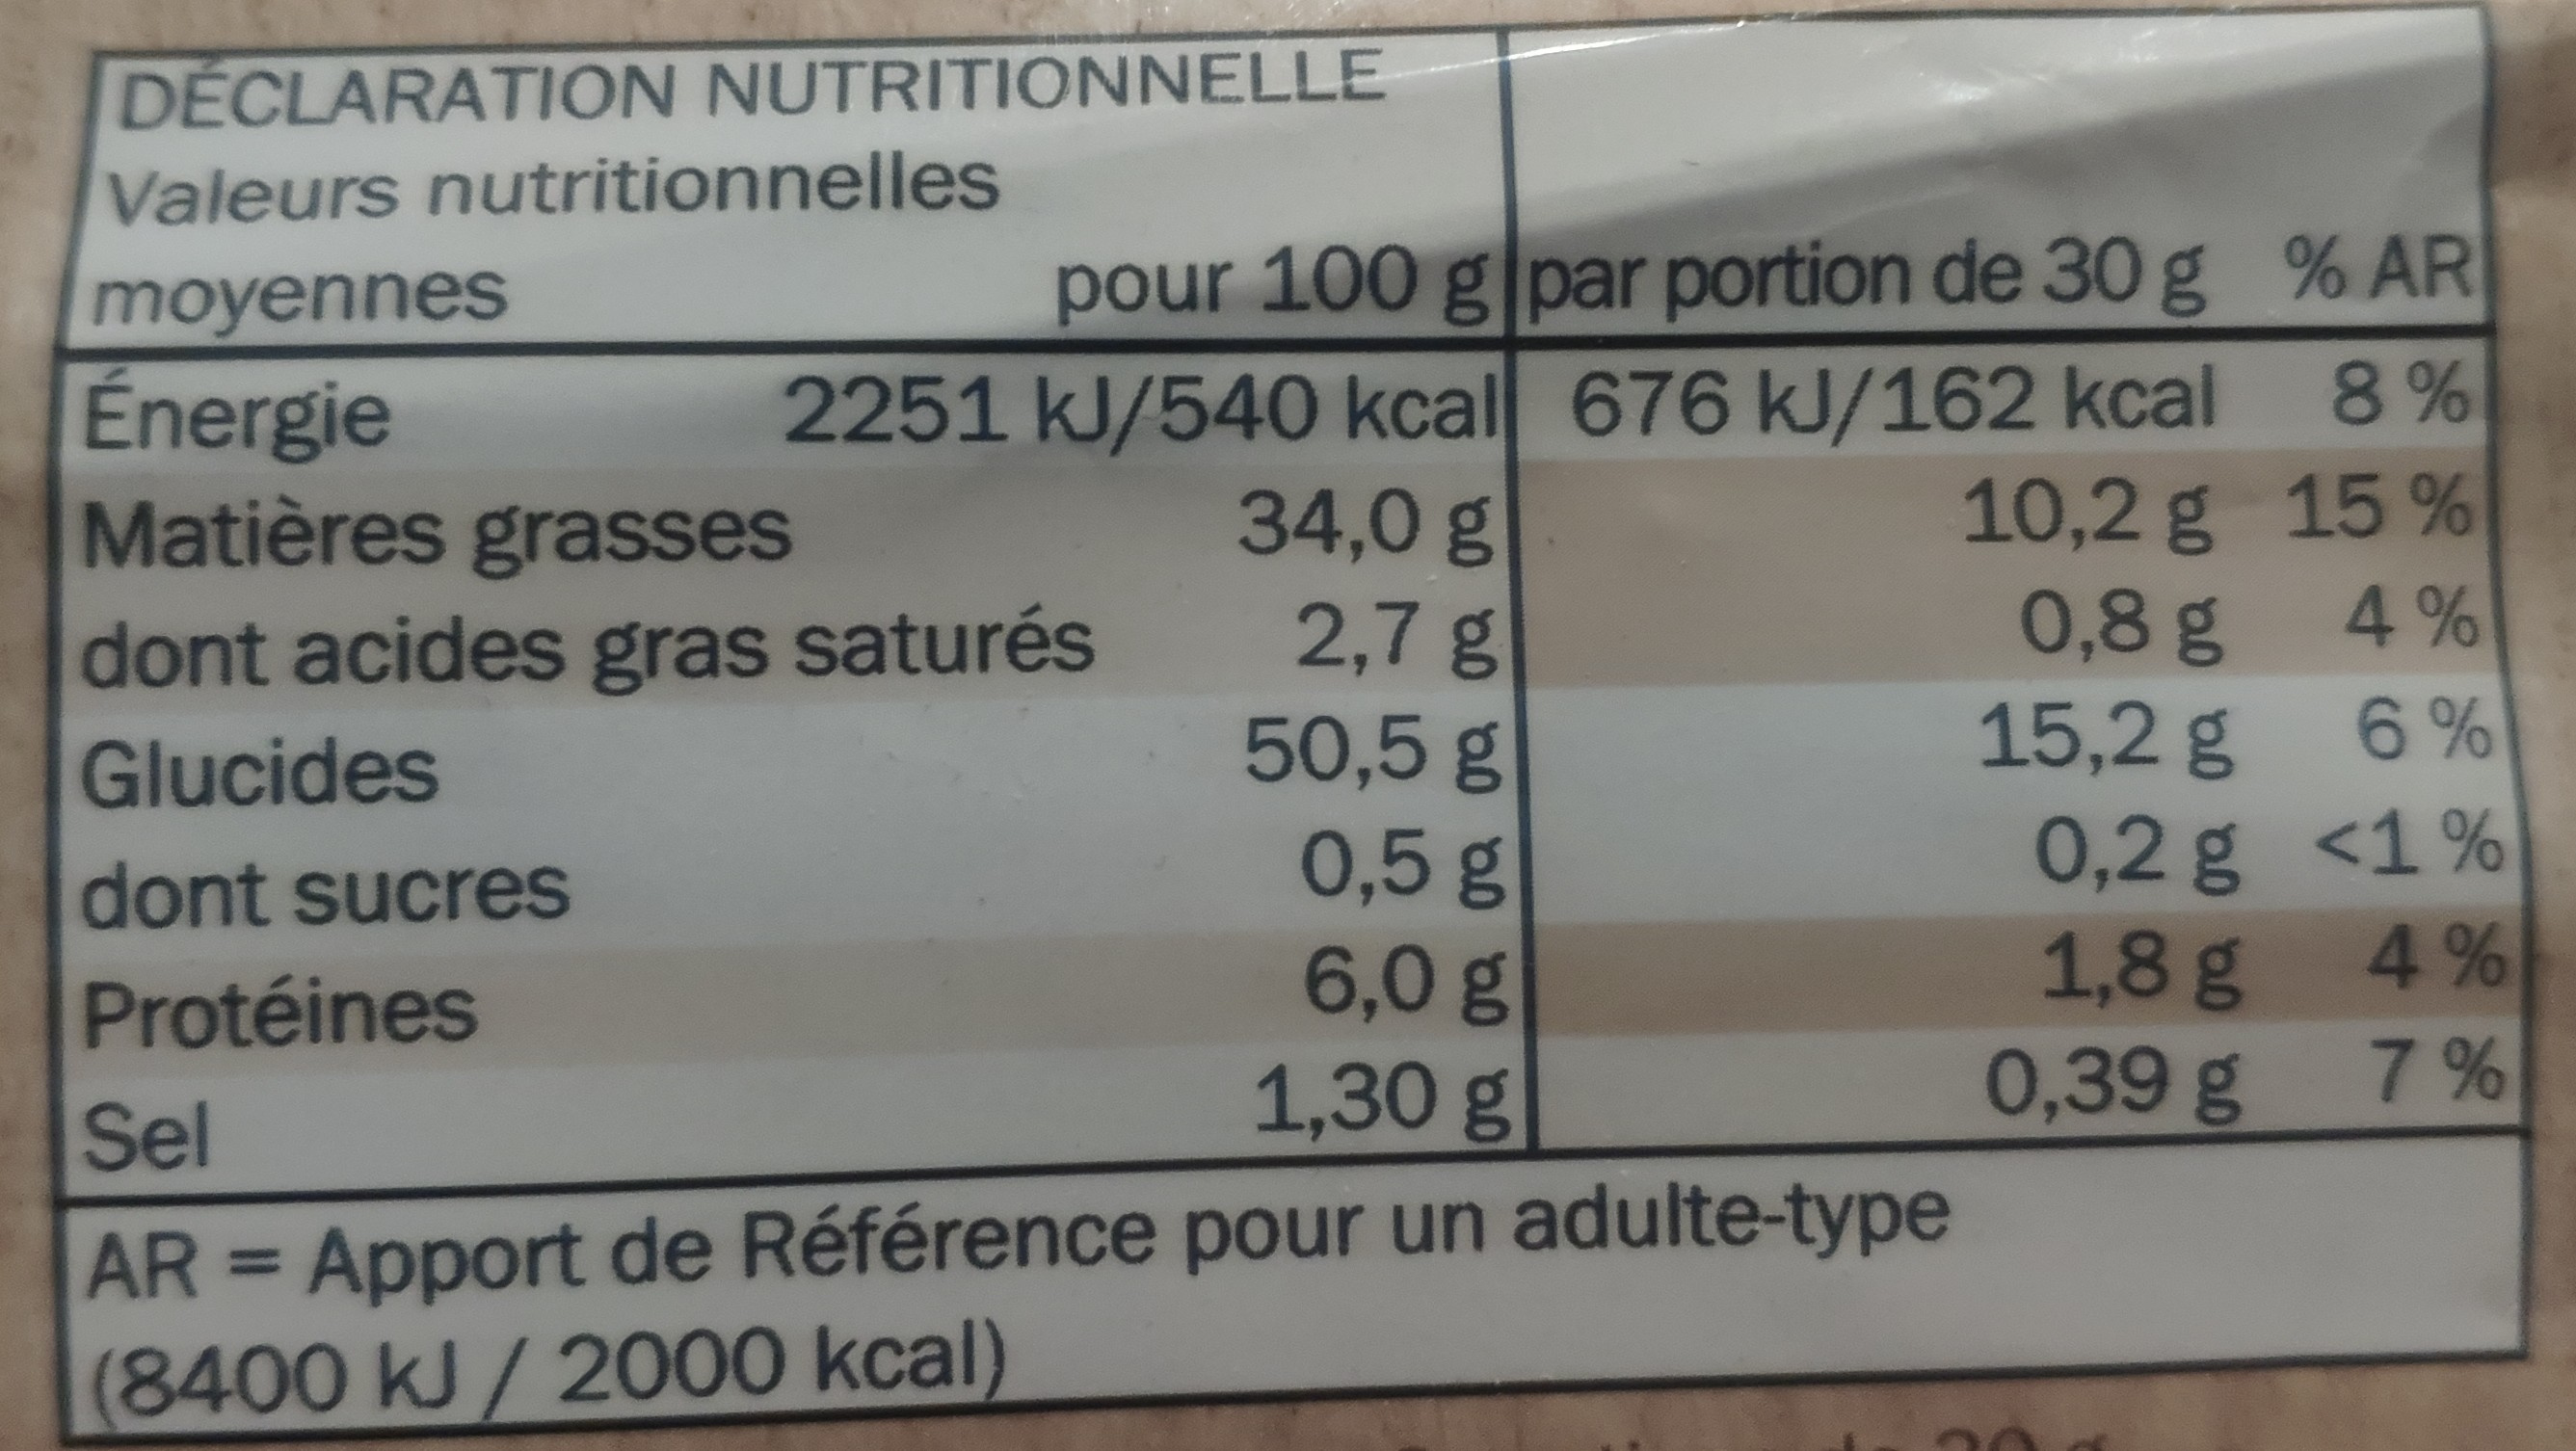column: (73, 50, 1500, 1180), (1532, 50, 2240, 1171), (2277, 50, 2503, 1177)
table: (34, 23, 2546, 1191)
